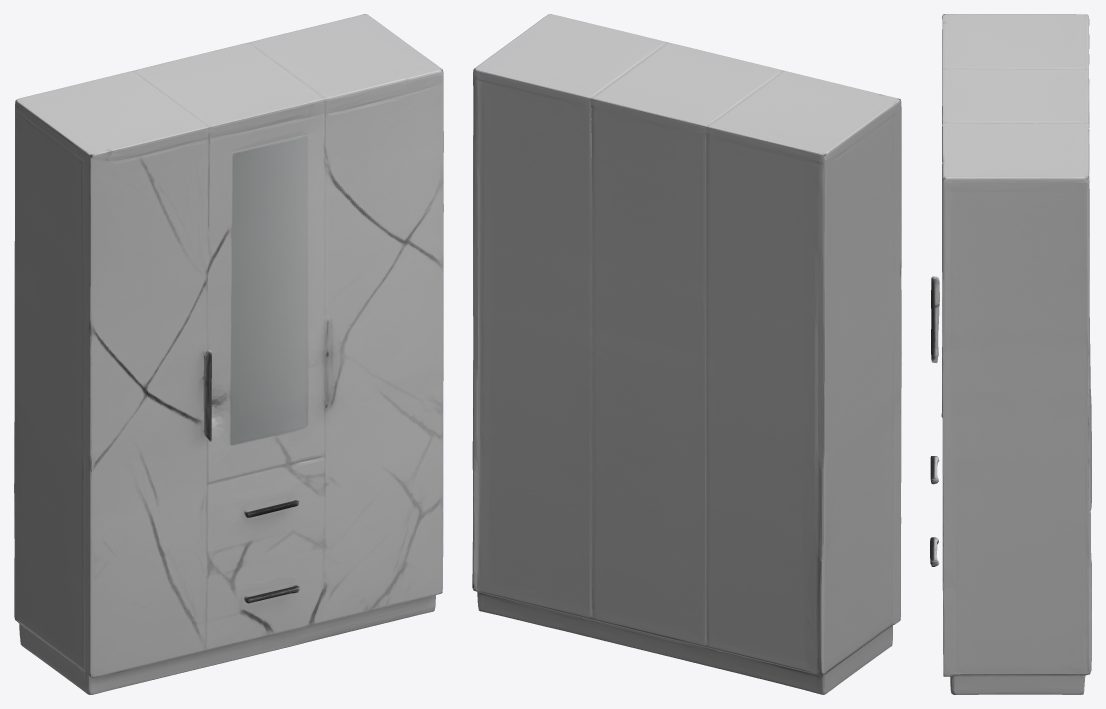
The picture shows the model from 3 angles, left to right: view 1: azimuth 30°, elevation 25°; view 2: azimuth 150°, elevation 25°; view 3: azimuth 270°, elevation 25°; orthographic projection. The views are drawn at different scales.
Parts seen in each view (by area): view 1: world; view 2: world; view 3: world.
Part boxes in pixels (x1,y1,x2,y2): world: [14, 14, 443, 694]; world: [472, 14, 901, 694]; world: [930, 14, 1091, 694].
Bounding box in the file's own units: 0.6803 × 1 × 0.2828.
1 material, 1 textured.
